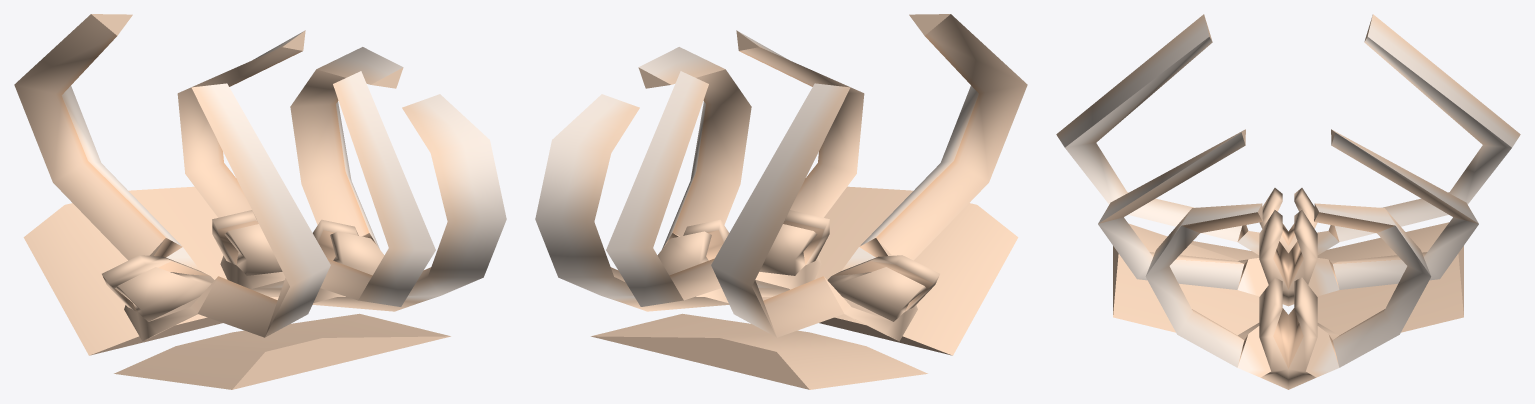
The model's file is Bone_6_color_2.FBX.
3 renders of one model, left to right at view 1: azimuth 30°, elevation 25°; view 2: azimuth 150°, elevation 25°; view 3: azimuth 270°, elevation 25°, orthographic. The views are drawn at different scales.
Visible parts, largest first — view 1: Bone; view 2: Bone; view 3: Bone.
Boxes of the visible parts, x1,y1,x2,y2 form: Bone: (14, 14, 506, 389); Bone: (535, 14, 1027, 389); Bone: (1056, 14, 1520, 389).
Size of the model in its own units: 0.7104 by 0.6741 by 1.04.
